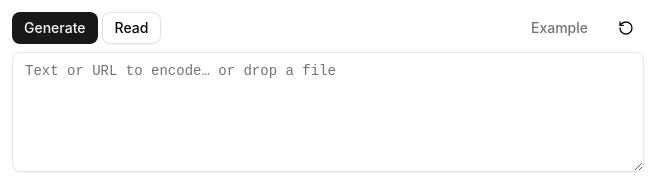
Test: Example button fills input with example URL
The image size is (661, 189).
Click the button "Example" at coordinates (560, 28), box [519,12,600,44]
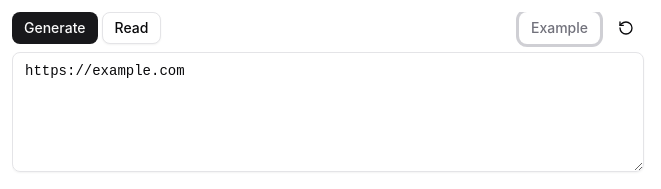
Check: the text box with placeholder "Text or URL to encode… or drop a file" holds "https://example.com"
